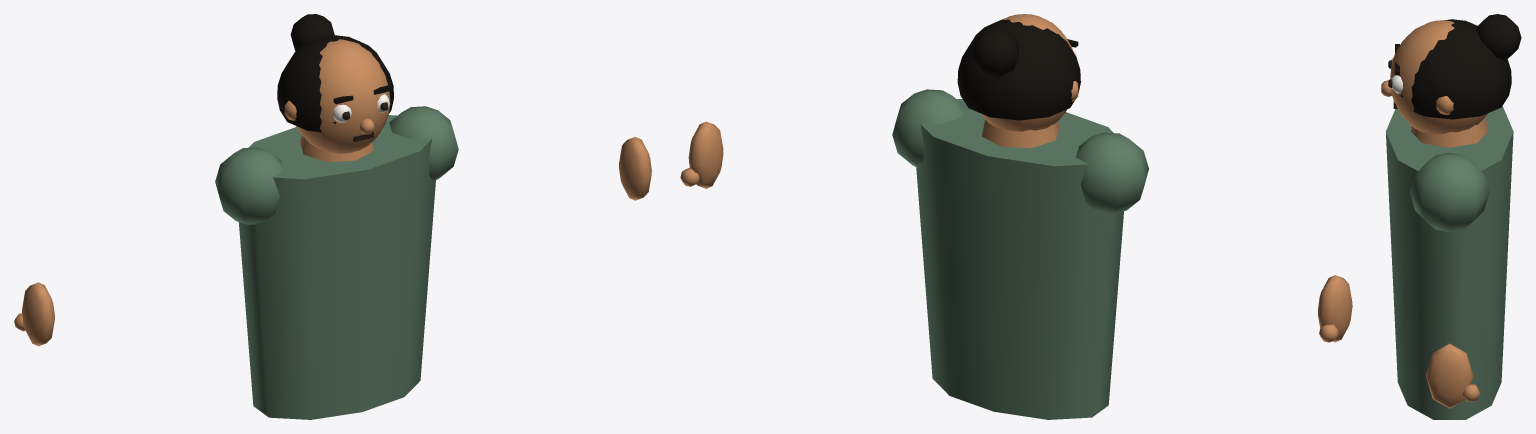
File: avatar-sage.glb
The picture shows the model from 3 angles, left to right: view 1: azimuth 30°, elevation 25°; view 2: azimuth 150°, elevation 25°; view 3: azimuth 270°, elevation 25°; orthographic projection. The views are drawn at different scales.
Parts seen in each view (by area): view 1: Torso, Skull, ShoulderR, Hair, ShoulderL, HandL, HandR, HairBun, Collar; view 2: Torso, Hair, ShoulderR, ShoulderL, HairBun, HandL, HandR, Skull, Collar; view 3: Torso, Hair, ShoulderL, Skull, HandL, HairBun, Collar, EarL, HandL_Thumb, EyeL.
Part boxes in pixels (left/top/right/bottom): Torso: left=238, top=115, right=435, bottom=419; Skull: left=296, top=39, right=390, bottom=153; ShoulderR: left=215, top=147, right=284, bottom=224; Hair: left=277, top=35, right=393, bottom=132; ShoulderL: left=389, top=106, right=458, bottom=180; HandL: left=619, top=136, right=651, bottom=200; HandR: left=22, top=282, right=54, bottom=346; HairBun: left=290, top=14, right=334, bottom=51; Collar: left=300, top=135, right=373, bottom=162; Torso: left=916, top=99, right=1123, bottom=419; Hair: left=957, top=18, right=1080, bottom=120; ShoulderR: left=1076, top=132, right=1148, bottom=214; ShoulderL: left=892, top=89, right=965, bottom=167; HairBun: left=972, top=28, right=1018, bottom=77; HandL: left=688, top=121, right=723, bottom=188; HandR: left=1317, top=275, right=1352, bottom=342; Skull: left=981, top=14, right=1073, bottom=131; Collar: left=982, top=120, right=1059, bottom=148; Torso: left=1385, top=106, right=1513, bottom=419; Hair: left=1400, top=19, right=1511, bottom=119; ShoulderL: left=1409, top=152, right=1489, bottom=232; Skull: left=1390, top=20, right=1487, bottom=134; HandL: left=1426, top=343, right=1473, bottom=408; HairBun: left=1476, top=14, right=1521, bottom=60; Collar: left=1411, top=117, right=1488, bottom=147; EarL: left=1436, top=96, right=1453, bottom=114; HandL_Thumb: left=1462, top=384, right=1479, bottom=401; EyeL: left=1391, top=75, right=1403, bottom=93.
Bounding box in the file's own units: 1.37 × 0.759 × 0.2632.
